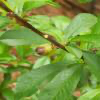Peach leaf: (12, 59, 79, 99), (38, 64, 83, 99), (1, 30, 61, 48), (63, 12, 99, 42), (65, 34, 99, 44), (64, 45, 81, 59)
